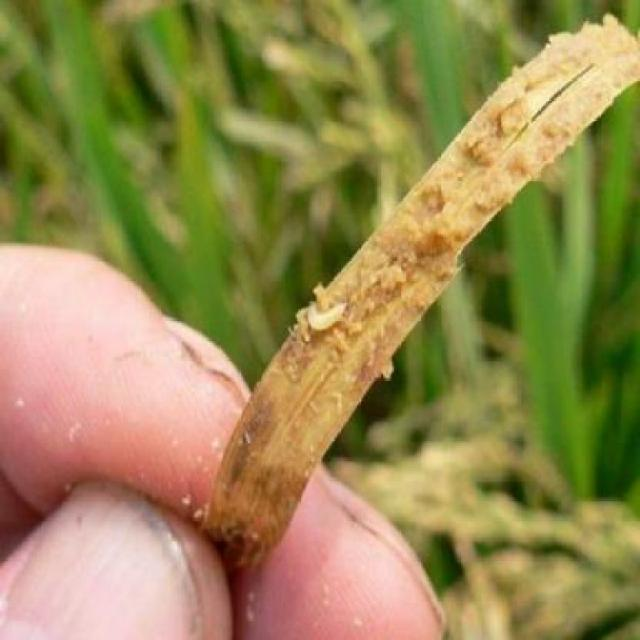whorl-maggot: (303, 298, 352, 338)
